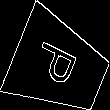P_SE: (32, 39, 87, 93)
